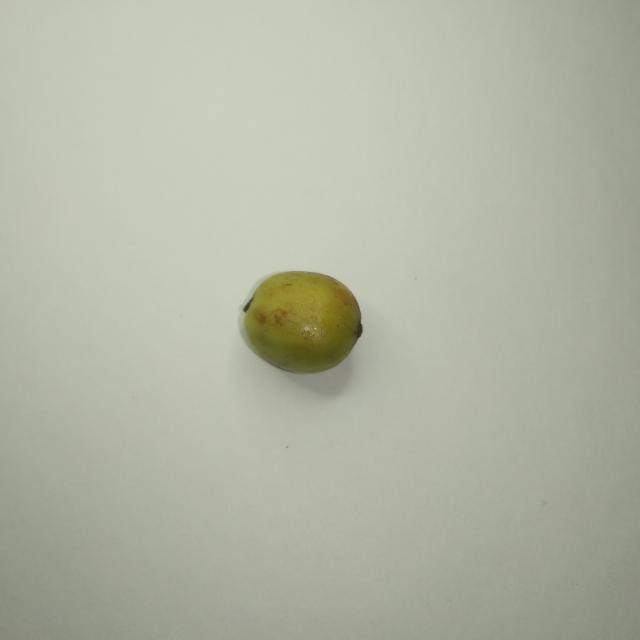Sano: (243, 271, 362, 373)
